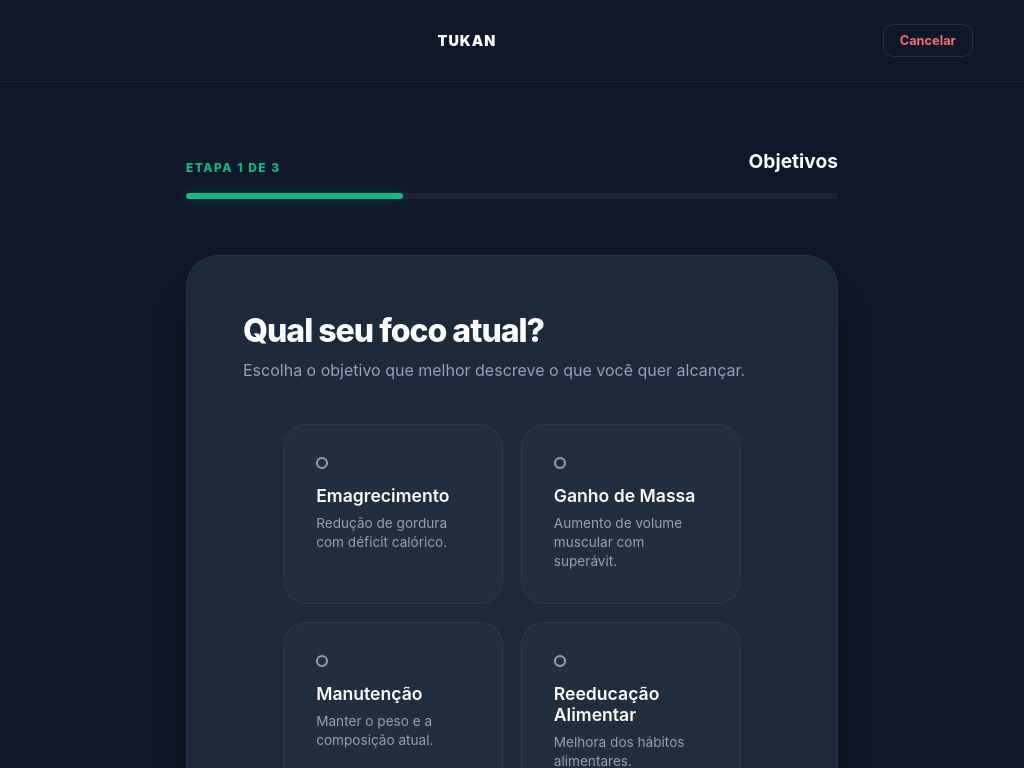
Test case: TriagemView — diet type selection and payload › shows the restrictive-diet caution for LOW_CARB
The image size is (1024, 768).
Click the element with class "selectable-card" that starts with "Emagrecimento" at (393, 514), box [283,424,503,604]
(page scrolled)
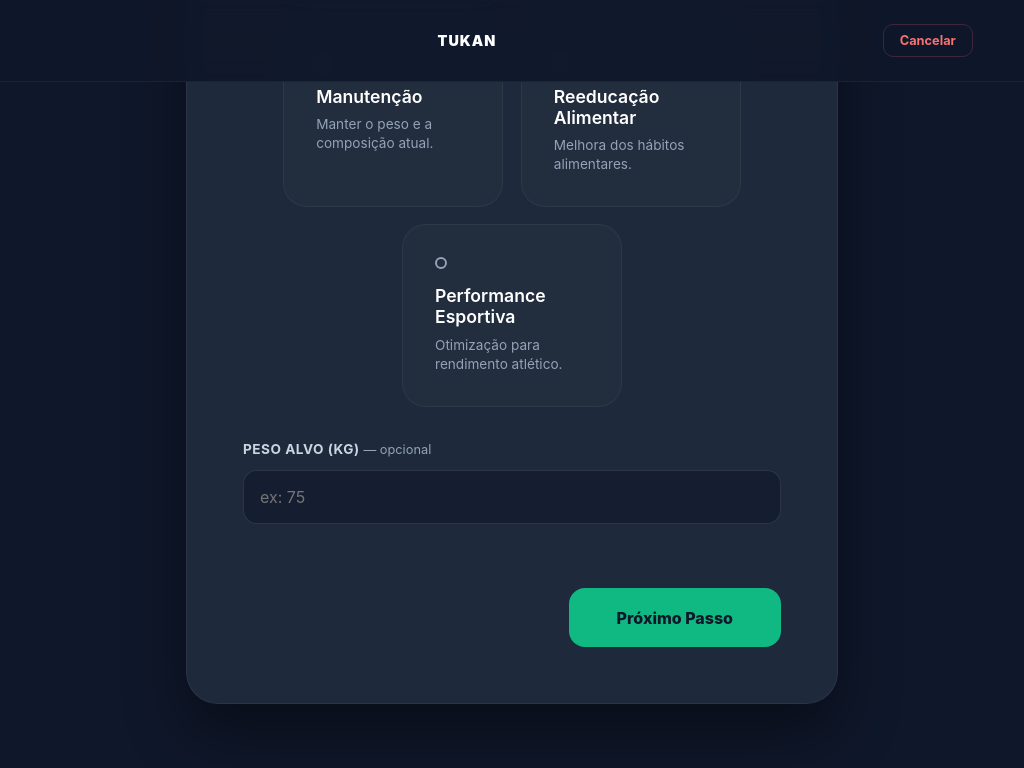
Click the button "Próximo Passo" at (675, 618), box [569,588,781,647]
(page scrolled)
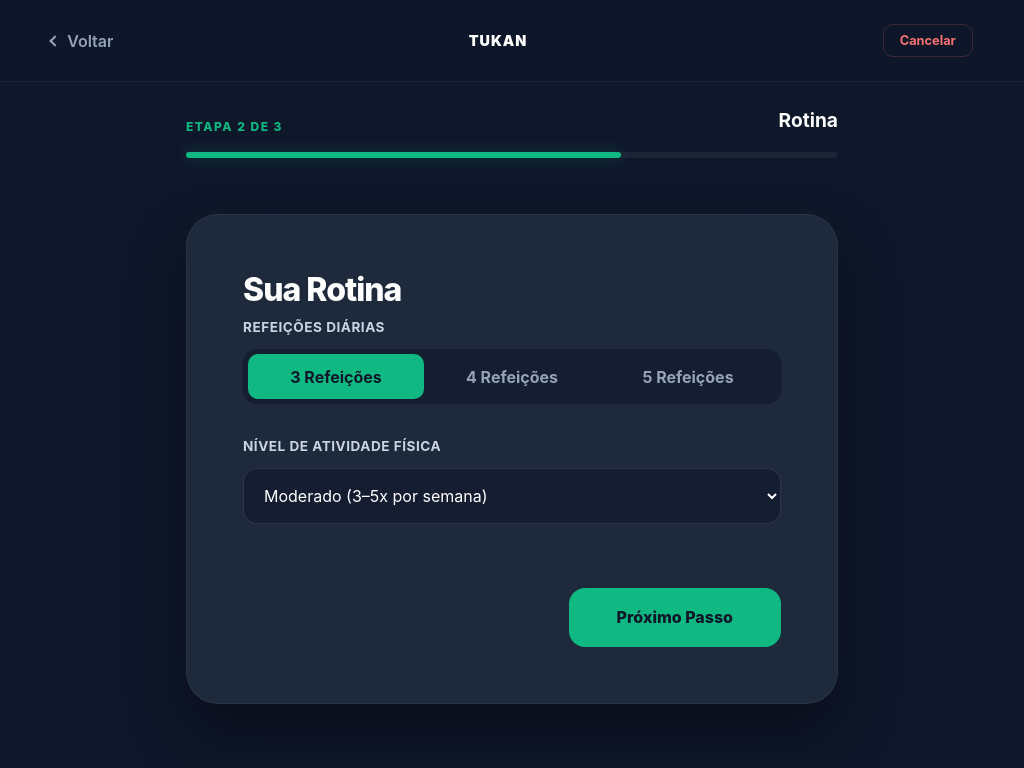
Click the button "Próximo Passo" at (675, 617), box [569,588,781,647]
(page scrolled)
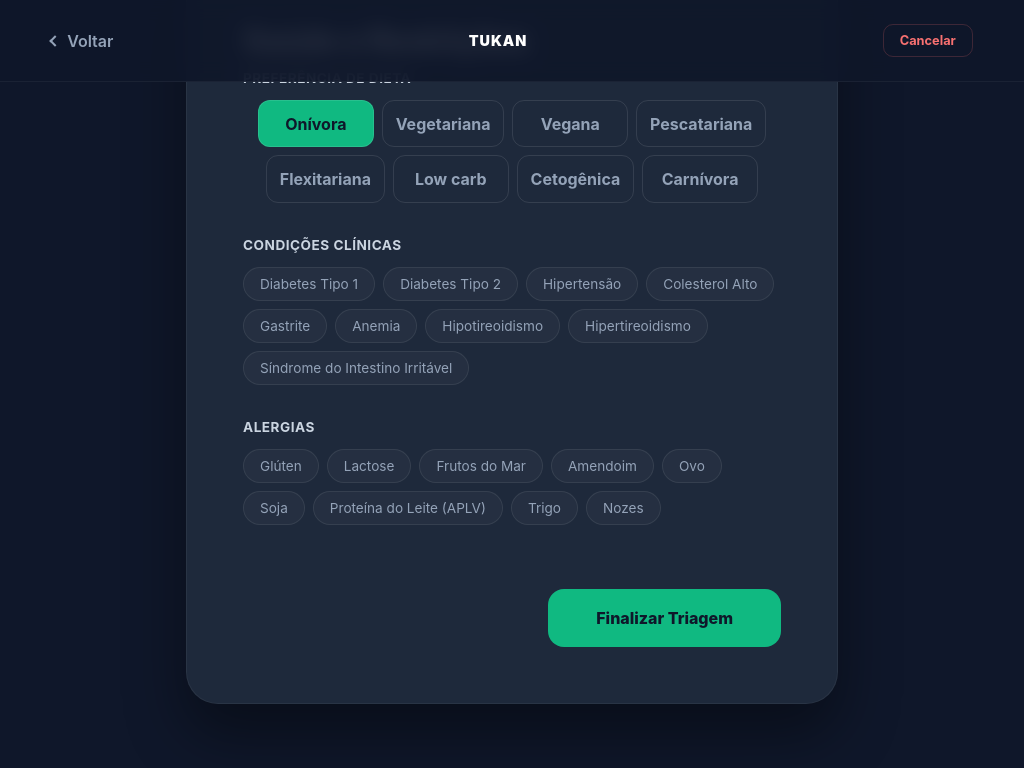
Click the button "Low carb" at (451, 179), box [393,156,509,203]
(page scrolled)
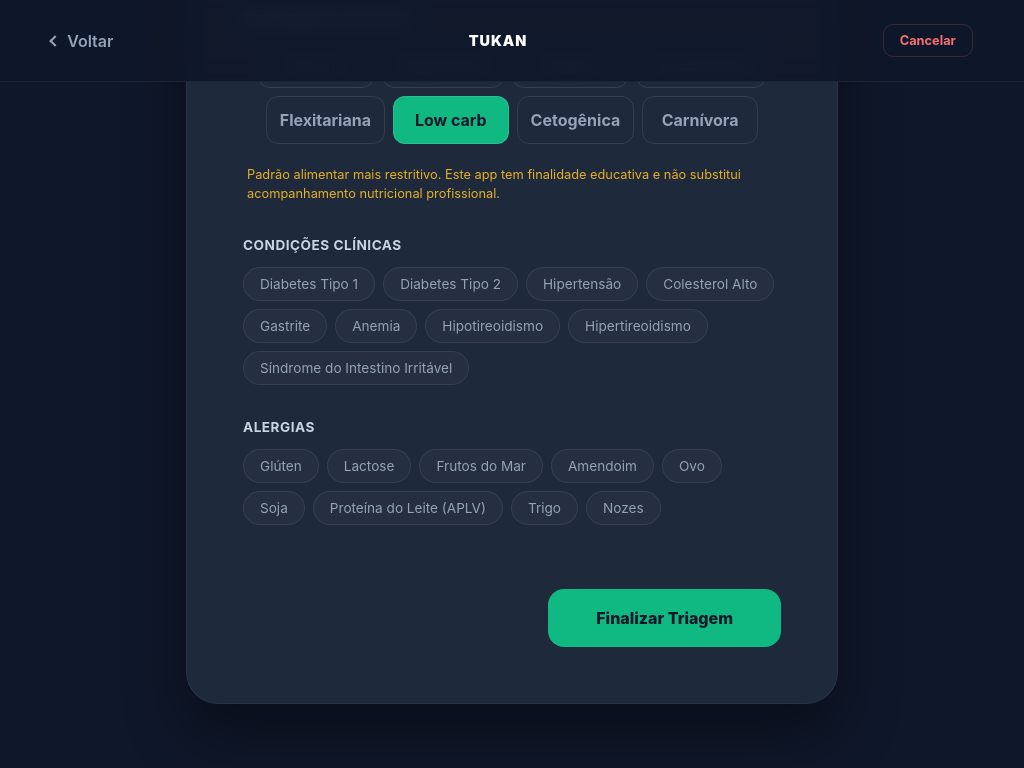
Expected: the text with class "diet-caution" is shown, [247,166,777,203]
